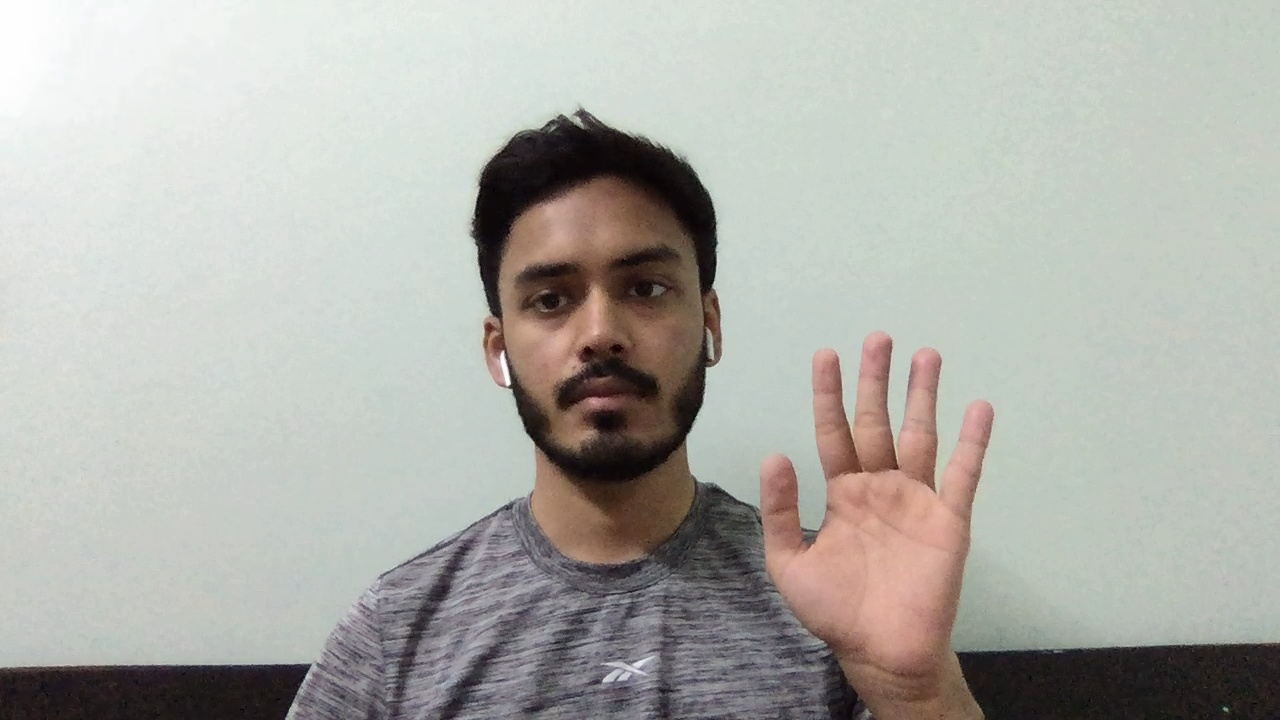Hello: (745, 322, 1006, 683)
